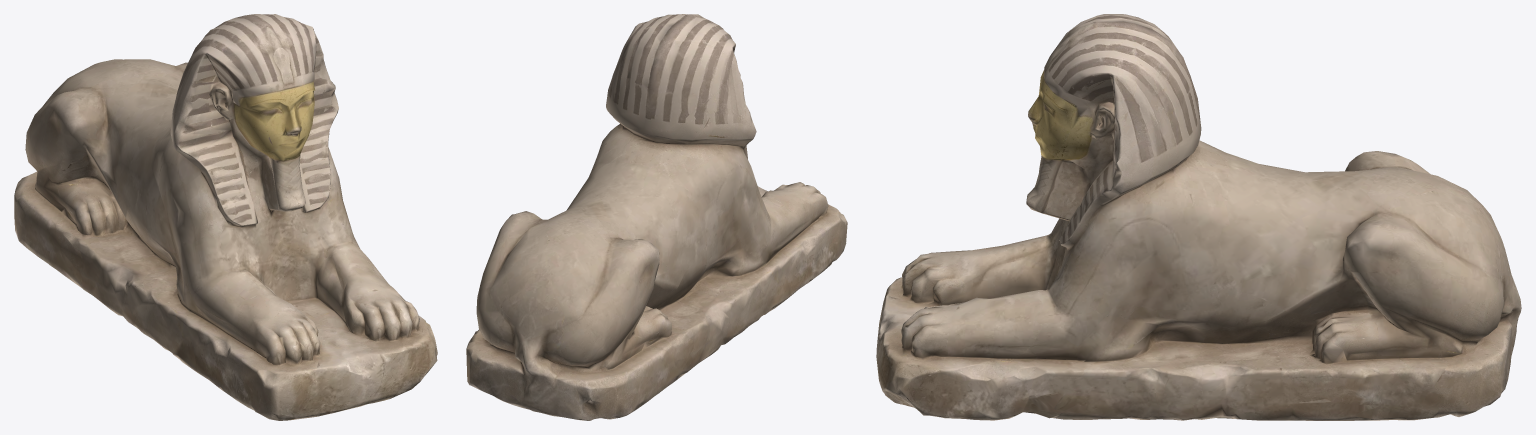
Rendered from sphinx.glb.
3 views of the same model, side by side, from view 1: azimuth 30°, elevation 25°; view 2: azimuth 150°, elevation 25°; view 3: azimuth 270°, elevation 25° (orthographic). The views are drawn at different scales.
Size of the model in its own units: 0.7158 by 1.15 by 1.9.
1 material, 1 textured.
